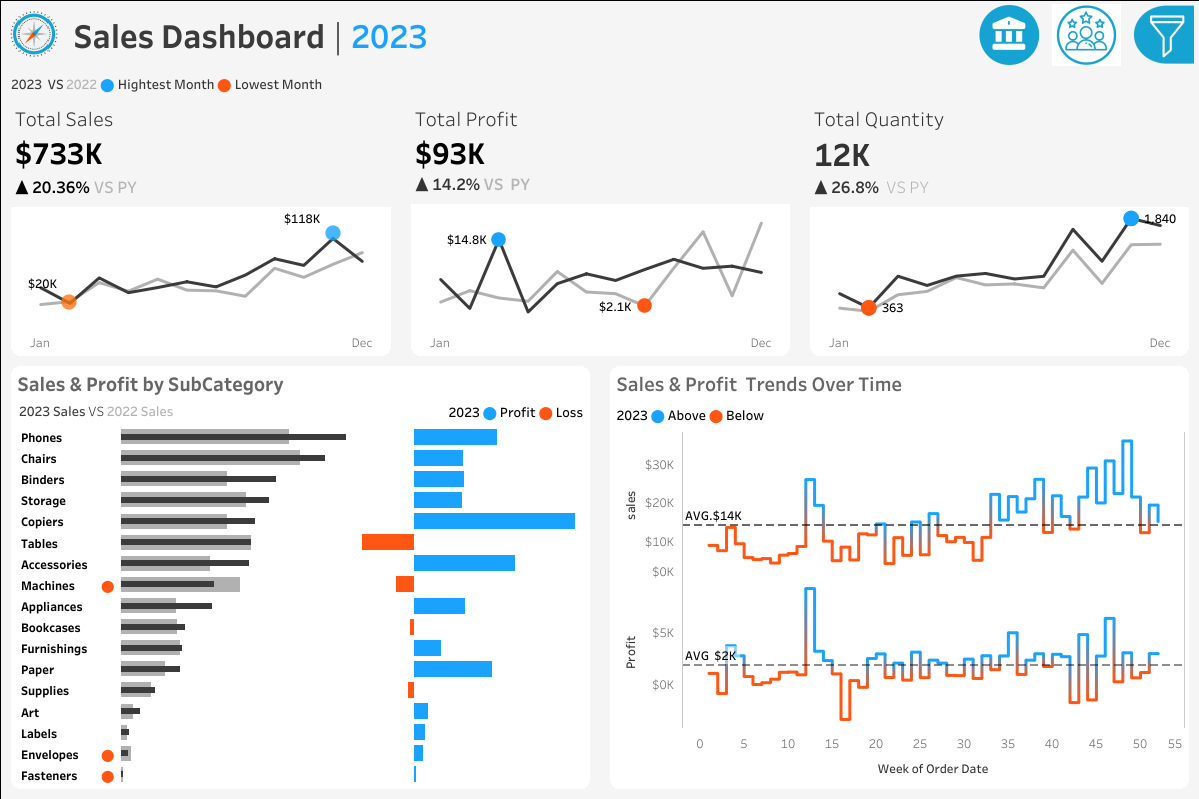

The page's visual inventory and layout, read from the dashboard file:
{"tool":"tableau","page":{"name":"Sales Dashboard ","canvas":[1200,800],"ordinal":1},"visuals":[{"type":"dashboard-object","box":[970,0,78,70]},{"type":"dashboard-object","box":[1048,0,77,70]},{"type":"dashboard-object","box":[1125,0,77,70]},{"type":"image","param":"Image/Icon - Logo.png","box":[1,1,66,67]},{"type":"text","box":[67,1,1132,67]},{"type":"blank","box":[977,12,215,74]},{"type":"worksheet","title":"Lagend KPI","mark":"Automatic","box":[1,68,1198,31]},{"type":"text","box":[977,86,215,48]},{"type":"worksheet","title":"KPI Sales","mark":"Automatic","rows":["Calculation_0250192460939265"],"cols":["Order Date"],"box":[1,99,400,267]},{"type":"worksheet","title":"KPI Profit","mark":"Automatic","rows":["Calculation_0250192501252111"],"cols":["Order Date"],"box":[401,99,399,267]},{"type":"worksheet","title":"KPI Quantity","mark":"Automatic","rows":["Calculation_0250192518205460"],"cols":["Order Date"],"box":[800,99,399,267]},{"type":"parameter","param":"[Parameters].[Parameter 0783180659109891]","box":[977,134,215,52]},{"type":"text","box":[977,186,215,38]},{"type":"filter","title":"KPI Sales","param":"[federated.0f3nyxw02ikmxb1c5pdhk00javjx].[none:Category:nk]","box":[977,224,215,60]},{"type":"filter","title":"KPI Sales","param":"[federated.0f3nyxw02ikmxb1c5pdhk00javjx].[none:Sub-Category:nk]","box":[977,284,215,60]},{"type":"text","box":[977,344,215,55]},{"type":"text","box":[11,366,579,34]},{"type":"text","box":[610,366,579,34]},{"type":"filter","title":"KPI Sales","param":"[federated.0f3nyxw02ikmxb1c5pdhk00javjx].[none:Region:nk]","box":[977,399,215,60]},{"type":"worksheet","title":"Lagend SubCategory","mark":"Automatic","box":[11,400,431,21.6]},{"type":"text","box":[442,400,148,21.6]},{"type":"text","box":[610,400,579,26]},{"type":"worksheet","title":"Subcategory Comparisson","mark":"Bar","rows":["Sub-Category","Calculation_0537165362114560"],"cols":["CY sales (copy)_0783180657823745","Calculation_0783180657545216","Calculation_0250192491884552"],"box":[11,421.6,579,367.3]},{"type":"worksheet","title":"Weekly Trends","mark":"Automatic","rows":["Calculation_0783180657545216","Calculation_0250192491884552"],"cols":["Order Date"],"box":[610,426,579,363]},{"type":"filter","title":"KPI Sales","param":"[federated.0f3nyxw02ikmxb1c5pdhk00javjx].[none:State:nk]","box":[977,459,215,60]},{"type":"filter","title":"KPI Sales","param":"[federated.0f3nyxw02ikmxb1c5pdhk00javjx].[none:City:nk]","box":[977,519,215,60]}]}

Visuals, with their boxes in screenshot pixels (x1, y1, x2, y2), scaled from the page's 1200x800 canvas onto the 1199x799 screenshot:
dashboard-object: [left=969, top=0, right=1047, bottom=70]
dashboard-object: [left=1047, top=0, right=1124, bottom=70]
dashboard-object: [left=1124, top=0, right=1198, bottom=70]
image: [left=1, top=1, right=67, bottom=68]
text: [left=67, top=1, right=1198, bottom=68]
blank: [left=976, top=12, right=1191, bottom=86]
"Lagend KPI" worksheet: [left=1, top=68, right=1198, bottom=99]
text: [left=976, top=86, right=1191, bottom=134]
"KPI Sales" worksheet: [left=1, top=99, right=401, bottom=366]
"KPI Profit" worksheet: [left=401, top=99, right=799, bottom=366]
"KPI Quantity" worksheet: [left=799, top=99, right=1198, bottom=366]
parameter: [left=976, top=134, right=1191, bottom=186]
text: [left=976, top=186, right=1191, bottom=224]
"KPI Sales" filter: [left=976, top=224, right=1191, bottom=284]
"KPI Sales" filter: [left=976, top=284, right=1191, bottom=344]
text: [left=976, top=344, right=1191, bottom=399]
text: [left=11, top=366, right=590, bottom=400]
text: [left=609, top=366, right=1188, bottom=400]
"KPI Sales" filter: [left=976, top=399, right=1191, bottom=458]
"Lagend SubCategory" worksheet: [left=11, top=400, right=442, bottom=421]
text: [left=442, top=400, right=590, bottom=421]
text: [left=609, top=400, right=1188, bottom=425]
"Subcategory Comparisson" worksheet (Bar marks): [left=11, top=421, right=590, bottom=788]
"Weekly Trends" worksheet: [left=609, top=425, right=1188, bottom=788]
"KPI Sales" filter: [left=976, top=458, right=1191, bottom=518]
"KPI Sales" filter: [left=976, top=518, right=1191, bottom=578]
